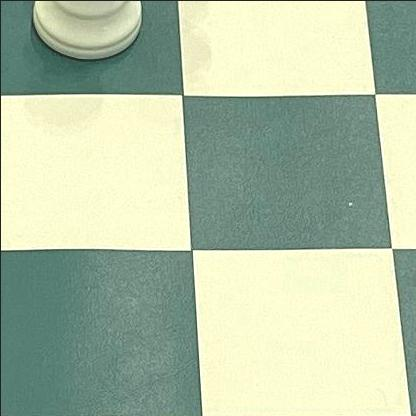white-rook: (29, 0, 146, 61)
